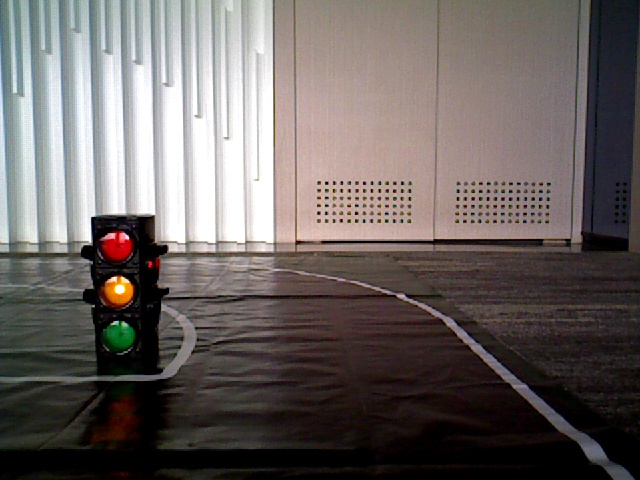yellow: (91, 222, 145, 354)
